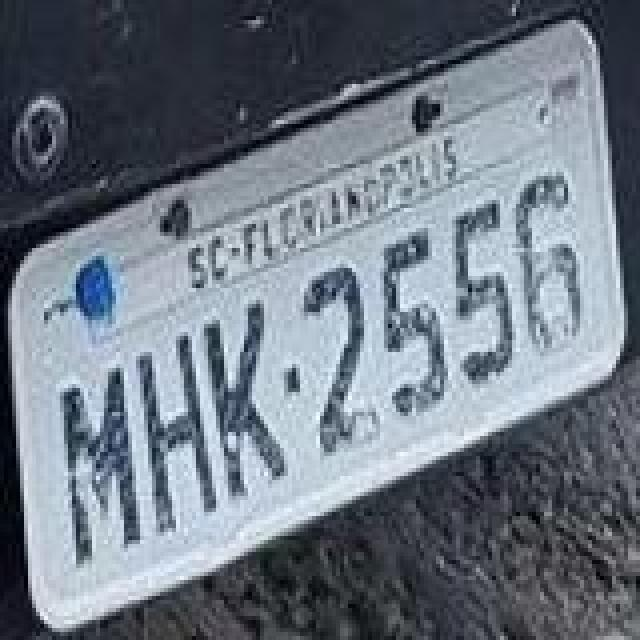2: (298, 262, 382, 458)
5: (380, 222, 452, 418), (450, 190, 518, 386)
6: (512, 168, 584, 352)
H: (132, 330, 220, 534)
K: (198, 298, 290, 502)
M: (60, 360, 148, 568)
